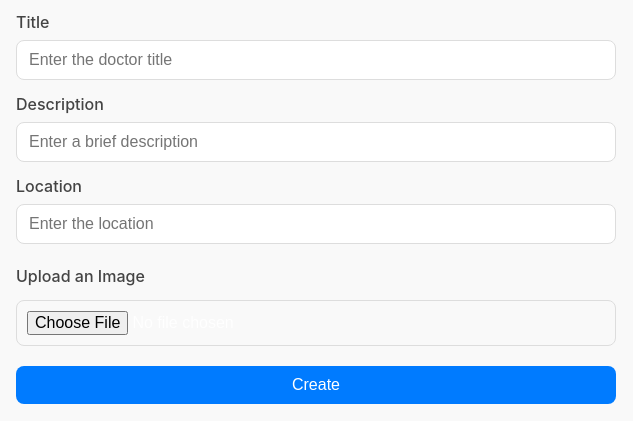
DoctorForm Component › should disable submit button when form is submitting
The image size is (633, 421).
// Simulate form submission in progress
Click the button "Create": [316, 385] box [16,366,616,404]
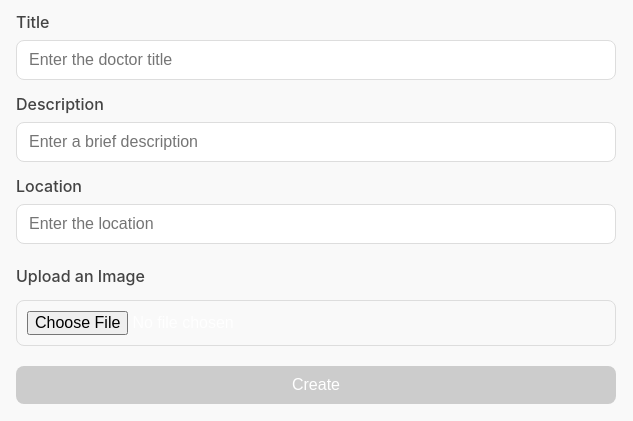
Expected: the button "Create" is disabled, [16,366,616,404]
